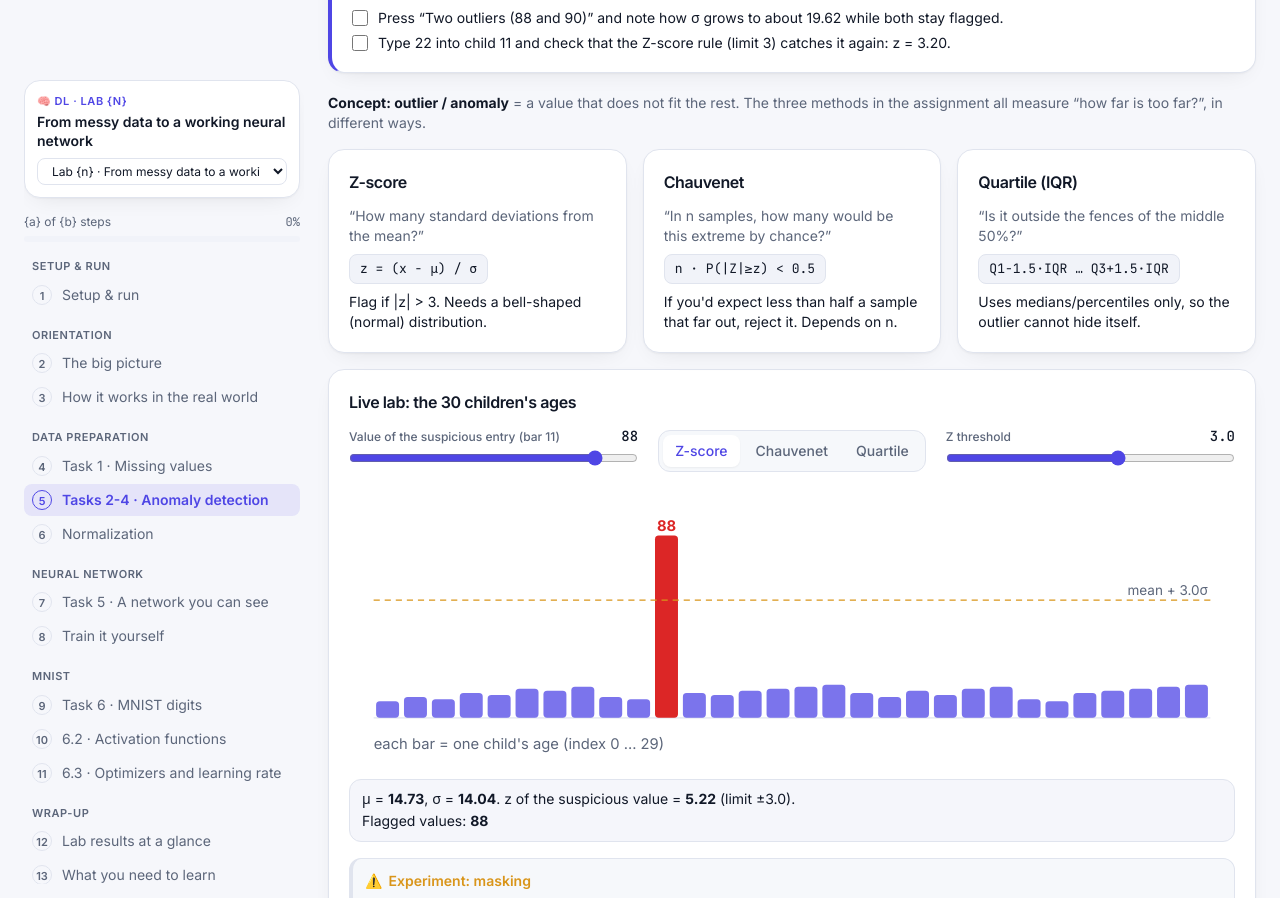
Test: LabPage › renders a calculation-heavy step with its real numbers (anomalies)
This screenshot has width=1280, height=898.
(page scrolled)
Expected: the text "z of the suspicious value" shows "5.22", [685, 790, 716, 806]
Click the radio button labelled "Quartile" at (882, 450), box [844, 434, 921, 466]
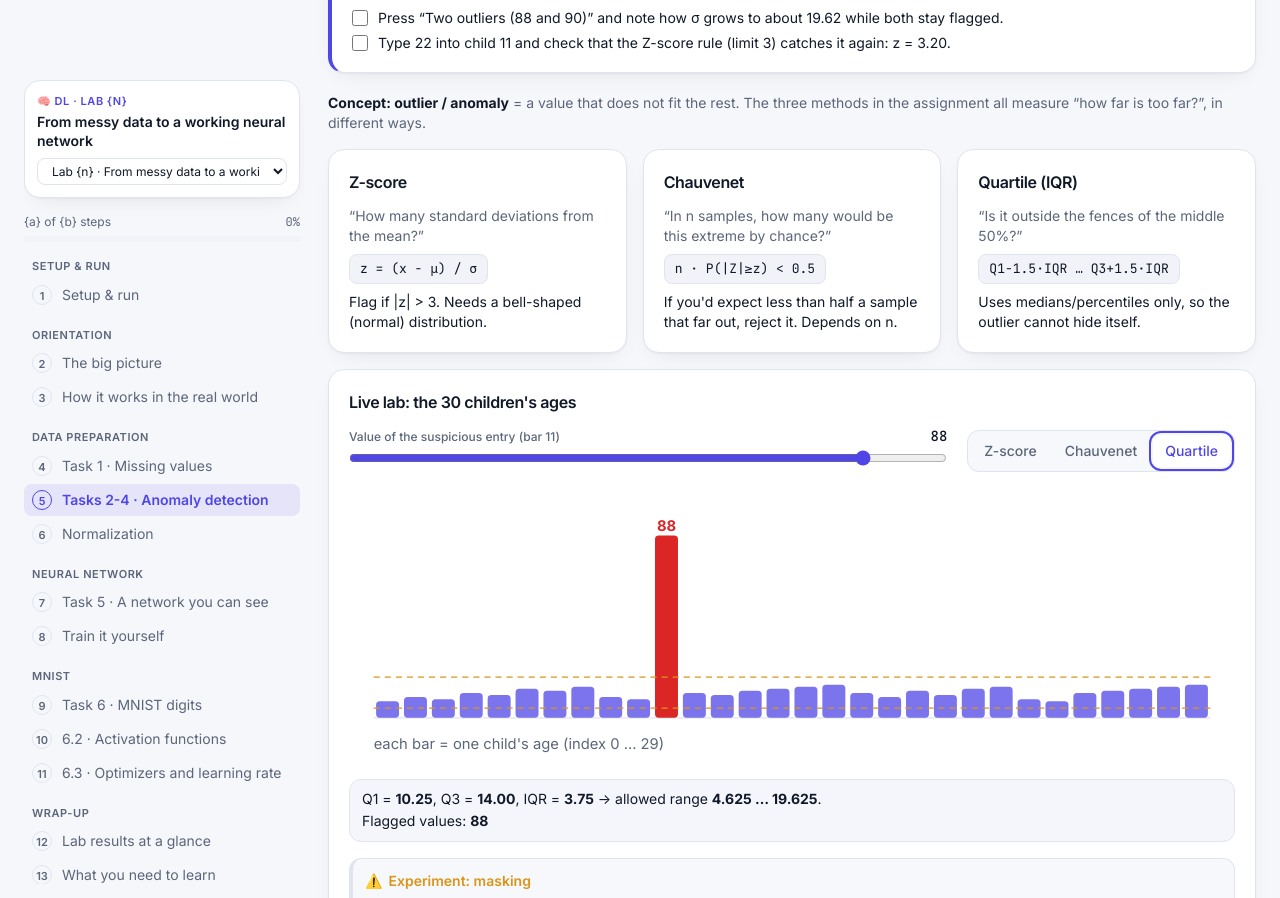
Expected: the text "allowed range" shows "4.625", [712, 790, 818, 806]
